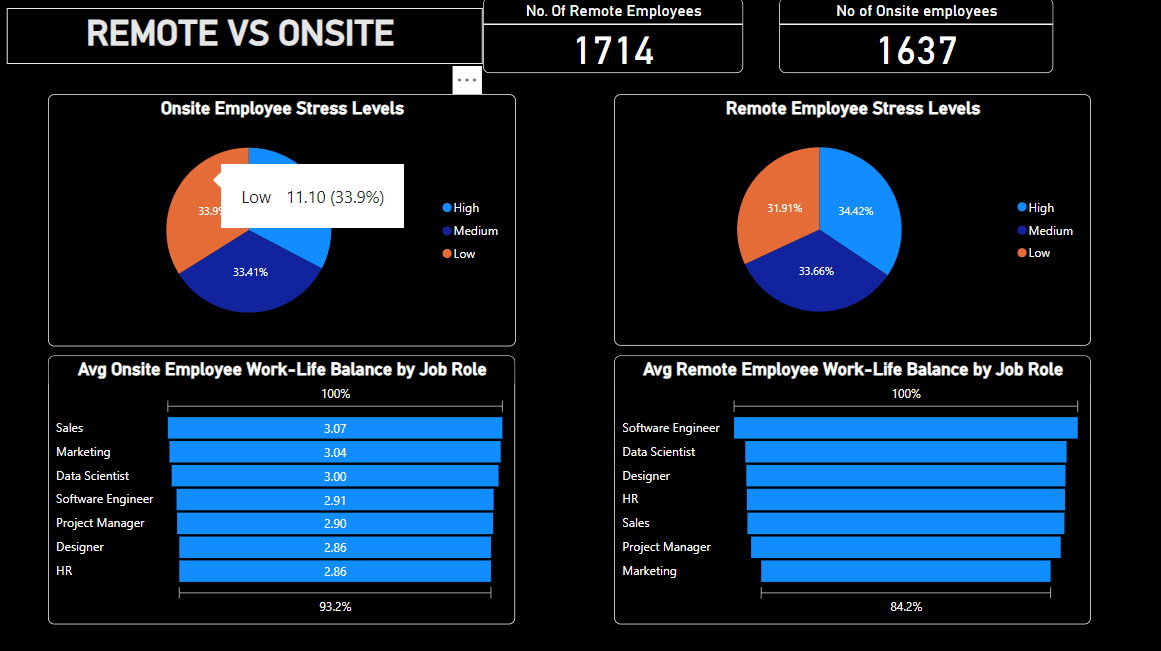

The page's visual inventory and layout, read from the dashboard file:
{"tool":"powerbi","page":{"name":"Page 1","canvas":[1280,720],"ordinal":0},"visuals":[{"type":"textbox","box":[9.6,11,522.8,61.7],"z":0},{"type":"pieChart","title":" Onsite Employee Stress Levels","fields":{"Y":["Sum(stress levels (2).pct_onsite_h)","Sum(stress levels (2).pct_onsite_m)","Sum(stress levels (2).pct_onsite_l)"]},"box":[54.9,105.7,513.2,277.2],"z":1000},{"type":"pieChart","title":"Remote Employee Stress Levels","fields":{"Y":["Sum(stress levels (2).pct_remote_h)","Sum(stress levels (2).pct_remote_m)","Sum(stress levels (2).pct_remote_l)"]},"box":[676.5,105.7,522.8,275.8],"z":2000},{"type":"funnel","title":" Avg Onsite Employee Work-Life Balance by Job Role","fields":{"Category":["work_life_balance_onsite.Job_Role"],"Y":["Avg(work_life_balance_onsite.avg_Work_Life_Balance_Rating)"]},"box":[55,393,513,295],"z":3000},{"type":"funnel","title":"Avg Remote Employee Work-Life Balance by Job Role","fields":{"Category":["work_life_balance_remote.Job_Role"],"Y":["Avg(work_life_balance_remote.avg_Work_Life_Balance_Rating)"]},"box":[677,393,523,295],"z":4000},{"type":"card","title":"No. Of Remote Employees","fields":{"Values":["Sum(work_life_balance.no_of_employees)"]},"box":[532.4,0,285.4,82.3],"z":5000},{"type":"card","title":"No of Onsite employees","fields":{"Values":["Sum(work_life_balance.no_of_employees)"]},"box":[857.6,0,300.5,82.3],"z":6000}]}

Visuals, with their boxes in screenshot pixels (x1, y1, x2, y2), scaled from the page's 1280x720 canvas onto the 1161x651 screenshot:
textbox: box=[9, 10, 483, 66]
" Onsite Employee Stress Levels" pieChart: box=[50, 96, 515, 346]
"Remote Employee Stress Levels" pieChart: box=[614, 96, 1088, 345]
" Avg Onsite Employee Work-Life Balance by Job Role" funnel: box=[50, 355, 515, 622]
"Avg Remote Employee Work-Life Balance by Job Role" funnel: box=[614, 355, 1088, 622]
"No. Of Remote Employees" card: box=[483, 0, 742, 74]
"No of Onsite employees" card: box=[778, 0, 1050, 74]
